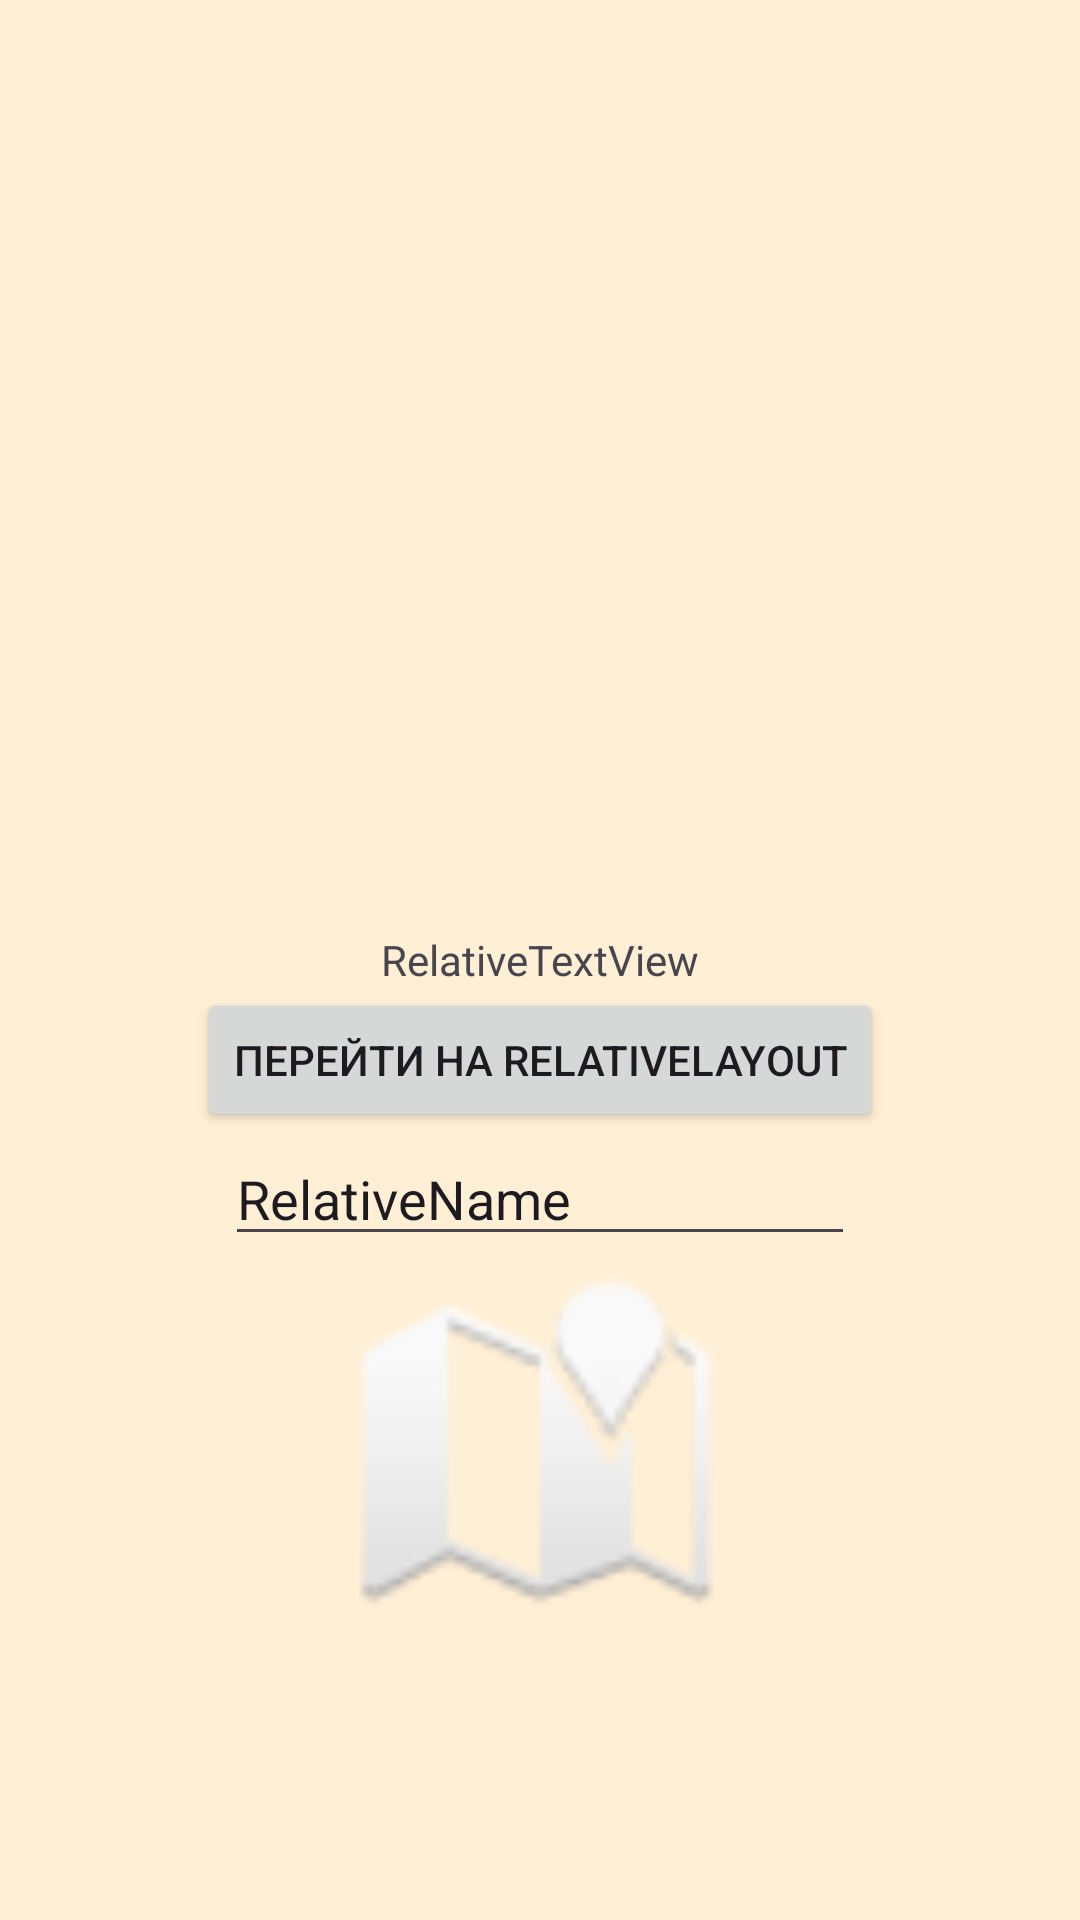

Icons on this 1080 x 1920 Android screen, each with the point to tap as [x,y]:
map: [536,1443]
